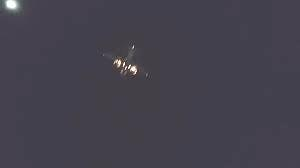Plane: (97, 32, 160, 87)
